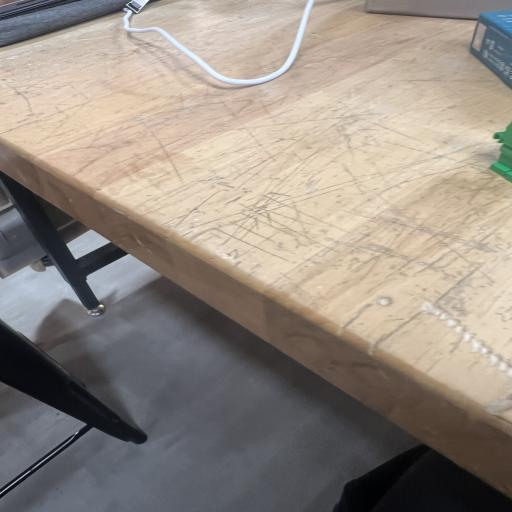green-lego-minifigure-detector: (490, 123, 512, 182)
